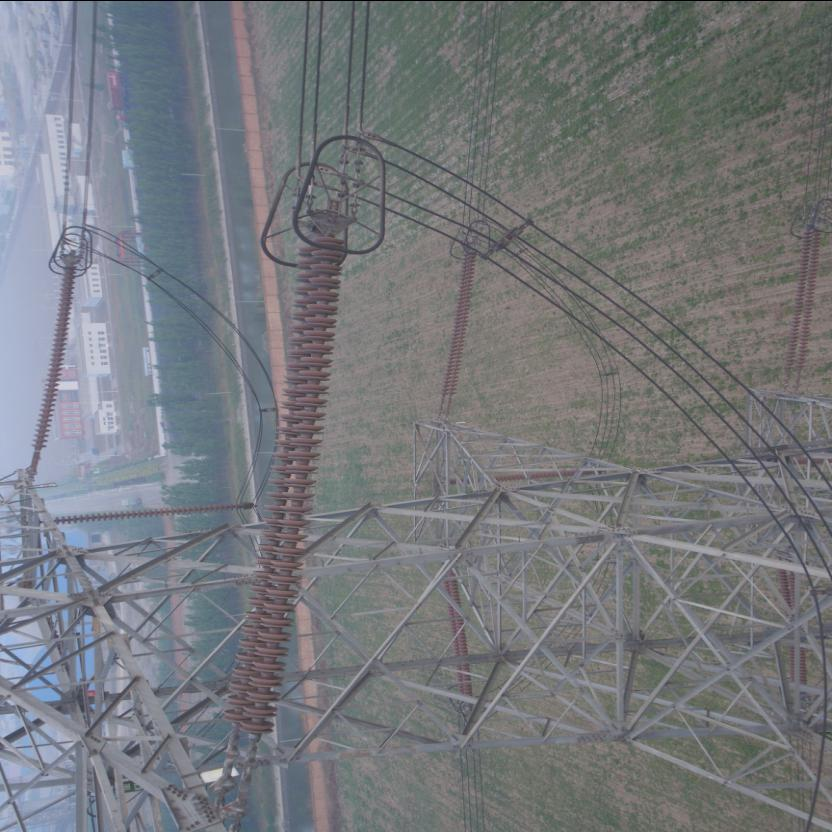insulator: (216, 224, 348, 766), (28, 257, 77, 465), (436, 242, 477, 406), (778, 226, 820, 378)
